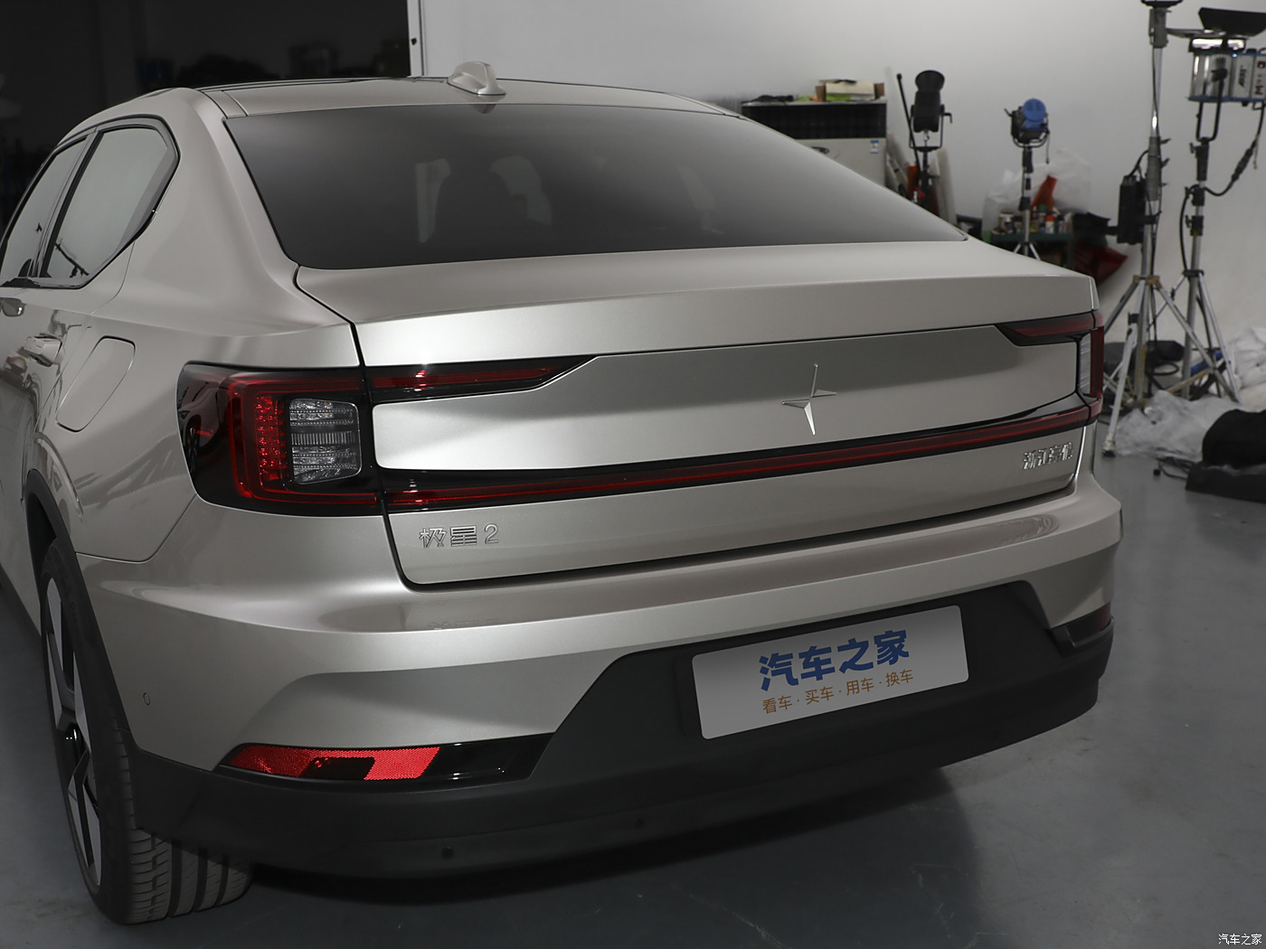Polestar: (782, 365, 836, 434)
